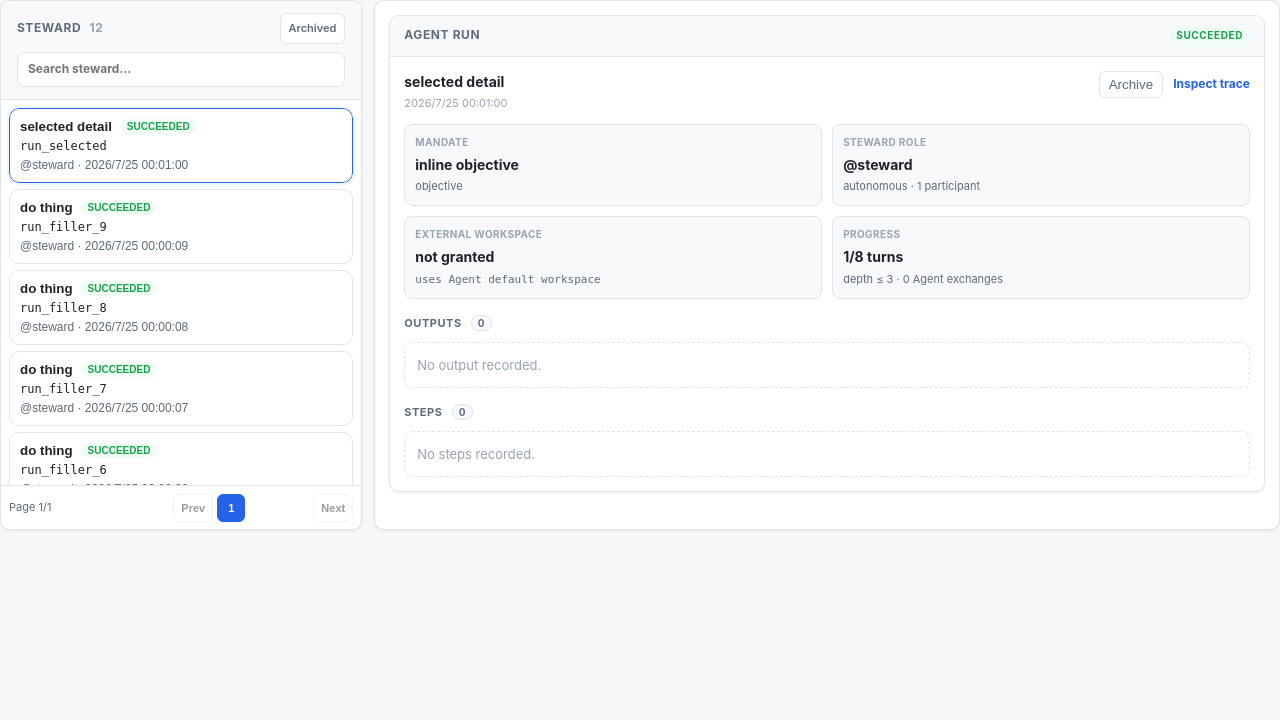
StewardView › searches Run fields and clears selection when there are no matches
Step 1. Type "SPECIAL LABEL" into the search field named "Search Steward" → (181, 69), box [17,52,345,87]
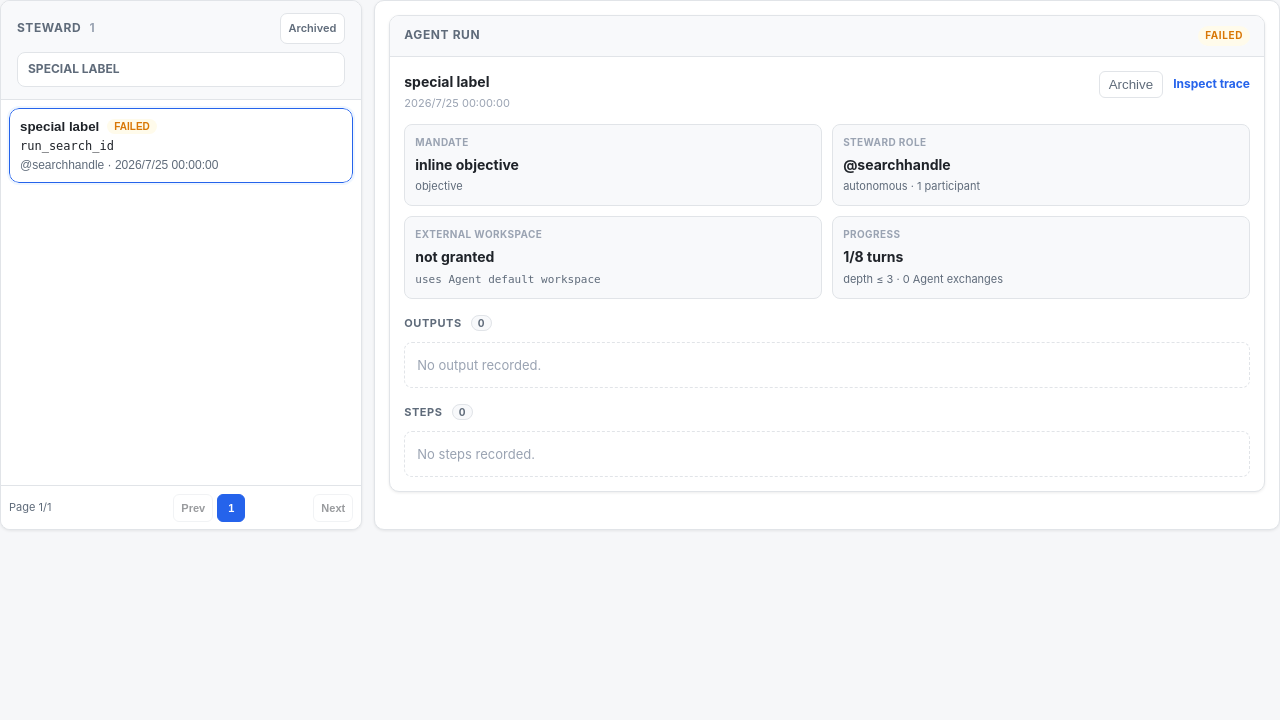
Expected: the text "Page 1/1" is shown, [9,500,51,514]
Expected: the number of buttons with class "operation-row" is 1, [9,108,353,183]
Expected: the button with class "operation-row" shows "run_search_id", [9,108,353,183]
Step 2. Replace the text in the search field named "Search Steward" with "RUN_SEARCH_ID" → (181, 69), box [17,52,345,87]
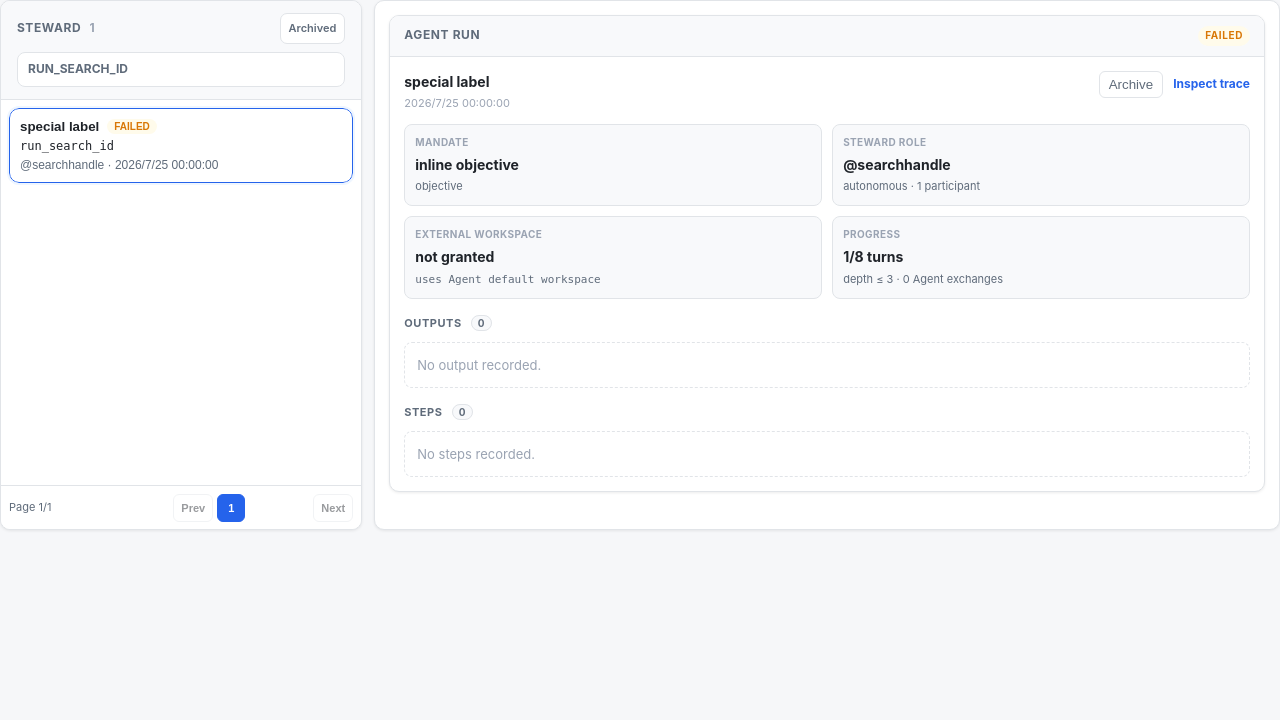
Expected: the text "Page 1/1" is shown, [9,500,51,514]
Expected: the number of buttons with class "operation-row" is 1, [9,108,353,183]
Expected: the button with class "operation-row" shows "run_search_id", [9,108,353,183]
Step 3. Replace the text in the search field named "Search Steward" with "SEARCHHANDLE" → (181, 69), box [17,52,345,87]
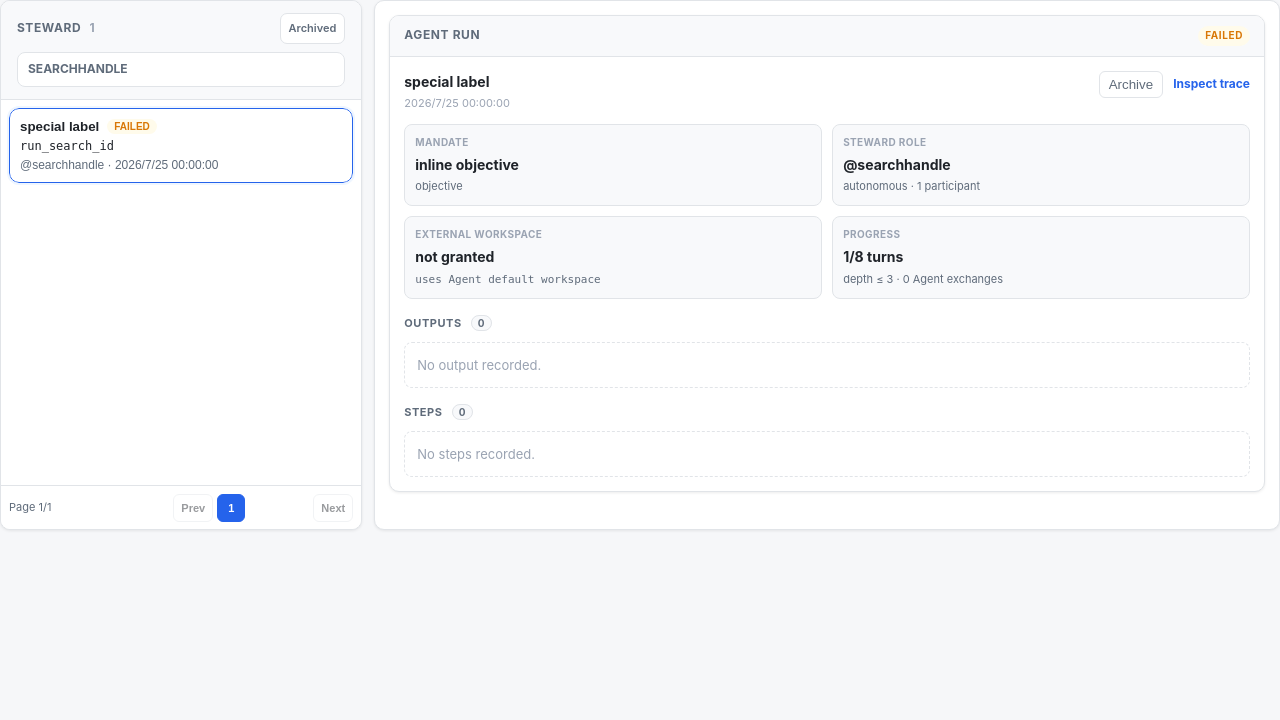
Expected: the text "Page 1/1" is shown, [9,500,51,514]
Expected: the number of buttons with class "operation-row" is 1, [9,108,353,183]
Expected: the button with class "operation-row" shows "run_search_id", [9,108,353,183]
Step 4. Replace the text in the search field named "Search Steward" with "FAILED" → (181, 69), box [17,52,345,87]
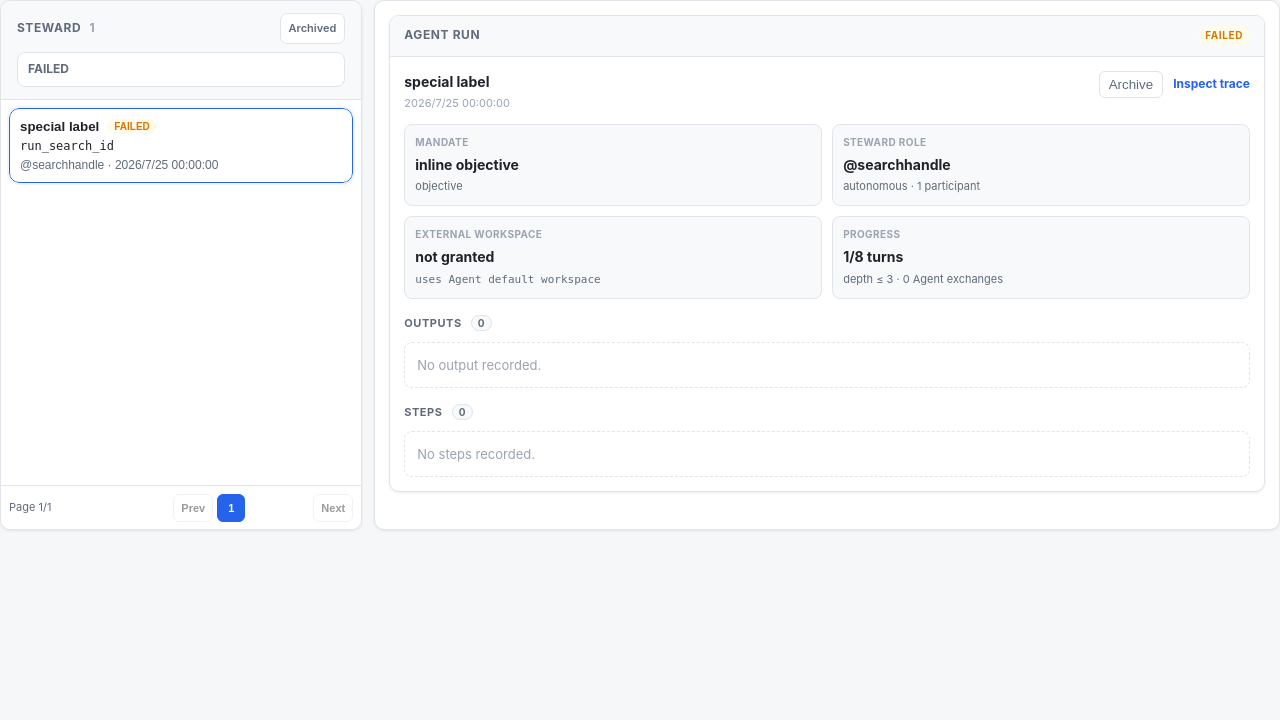
Expected: the text "Page 1/1" is shown, [9,500,51,514]
Expected: the number of buttons with class "operation-row" is 1, [9,108,353,183]
Expected: the button with class "operation-row" shows "run_search_id", [9,108,353,183]
Step 5. Replace the text in the search field named "Search Steward" with "definitely-no-match" → (181, 69), box [17,52,345,87]
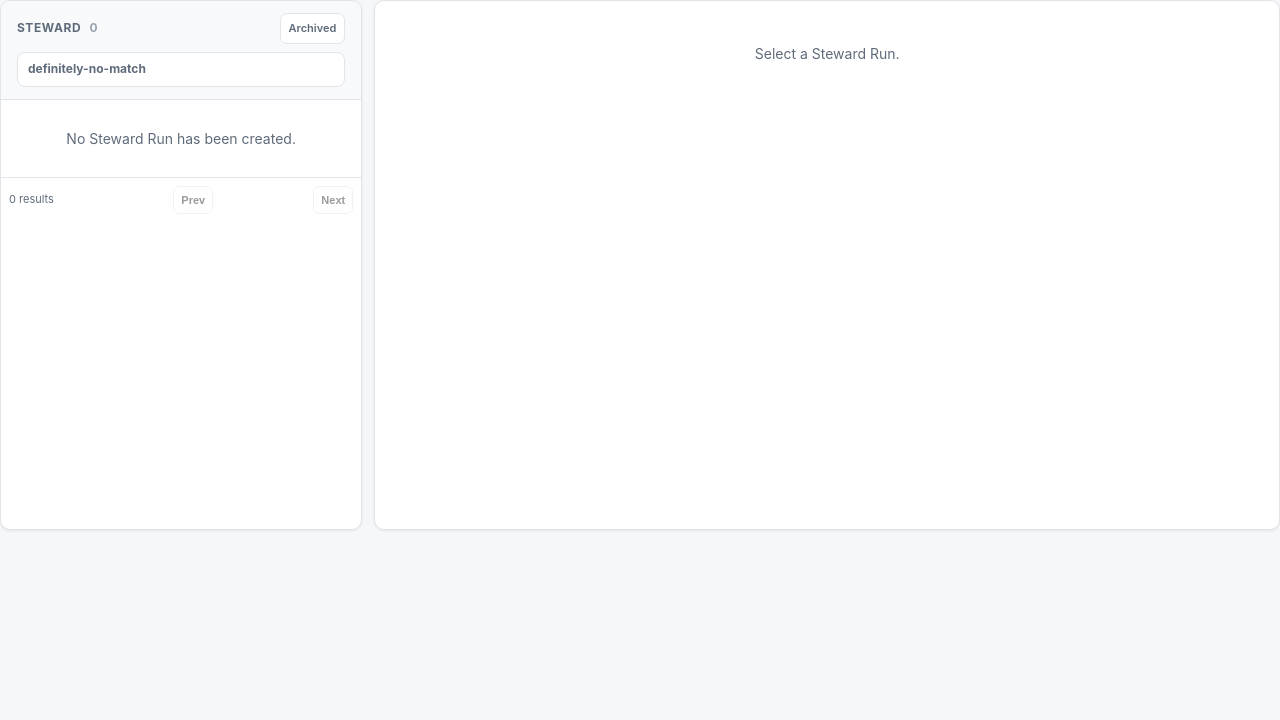
Expected: the text "No Steward Run has been created" is shown, [66,130,296,147]
Expected: the text "0 results" is shown, [9,192,54,206]
Expected: the text "Select a Steward Run" is shown, [755,45,900,62]
